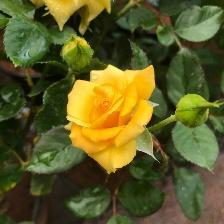rose: (65, 64, 159, 177)
